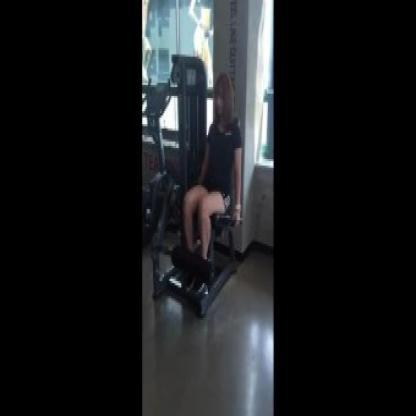leg extension: (142, 45, 264, 338)
